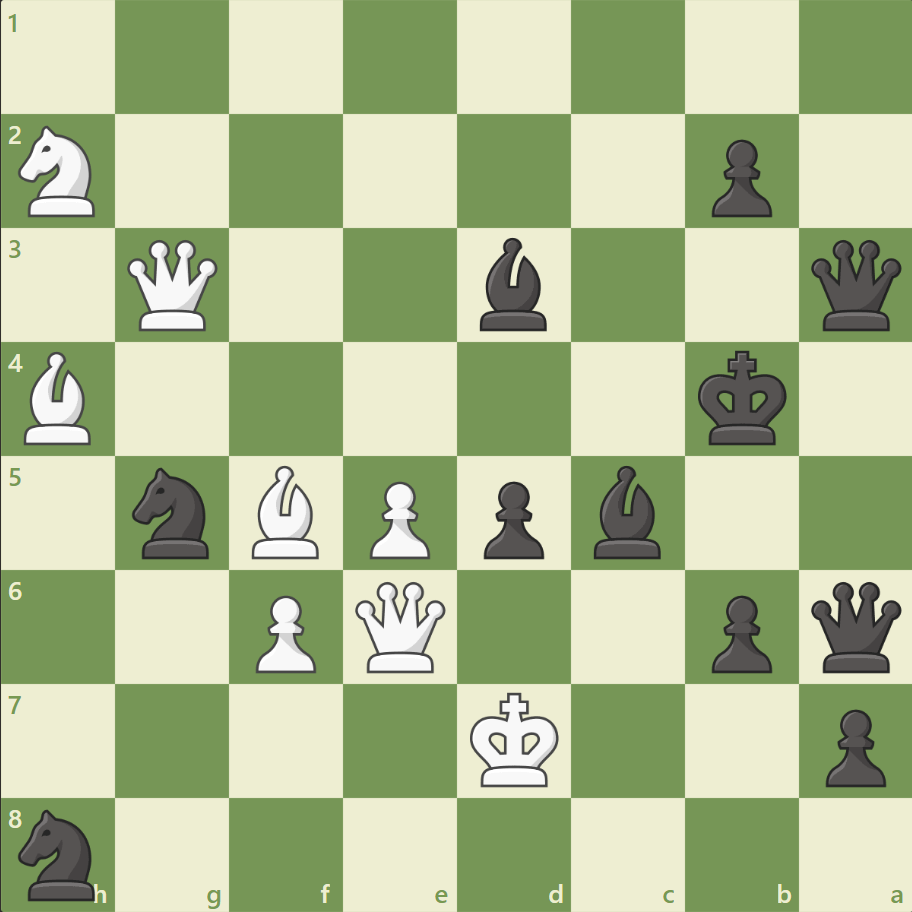B: (244, 460, 328, 563), (17, 347, 101, 449)
K: (465, 685, 565, 793)
N: (11, 121, 108, 223)
P: (247, 586, 322, 677), (361, 473, 435, 564)
Q: (351, 576, 450, 676), (124, 236, 223, 335)
b: (585, 460, 669, 563), (471, 233, 555, 336)
k: (692, 344, 792, 452)
n: (124, 461, 222, 564), (11, 802, 108, 904)
p: (701, 586, 776, 677), (474, 473, 549, 564), (701, 132, 776, 223), (815, 700, 889, 791)
q: (805, 576, 904, 676), (805, 236, 904, 335)
